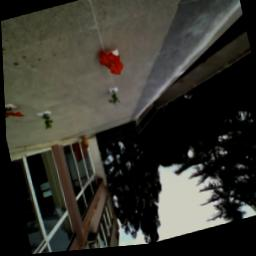herb: (41, 112, 55, 134), (106, 91, 121, 110)
wild: (97, 45, 127, 84), (5, 104, 24, 123)
